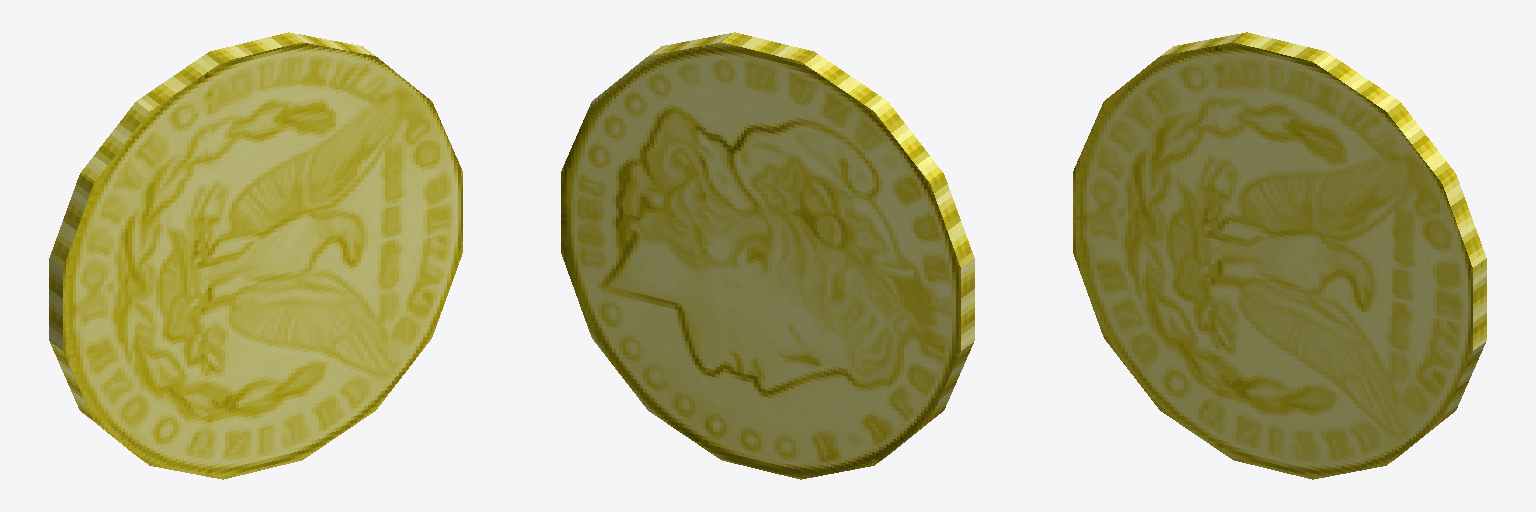
3 views of the same model, side by side, from view 1: azimuth 30°, elevation 25°; view 2: azimuth 150°, elevation 25°; view 3: azimuth 330°, elevation 25° (orthographic).
Visible parts, largest first — view 1: Vertex_Object; view 2: Vertex_Object; view 3: Vertex_Object.
Boxes of the visible parts, <box> form: Vertex_Object: <box>49,32,462,479</box>; Vertex_Object: <box>561,32,974,479</box>; Vertex_Object: <box>1073,32,1486,479</box>.
Size of the model in its own units: 60.33 by 60.33 by 3.6.
Materials: 3 (1 with a texture image).